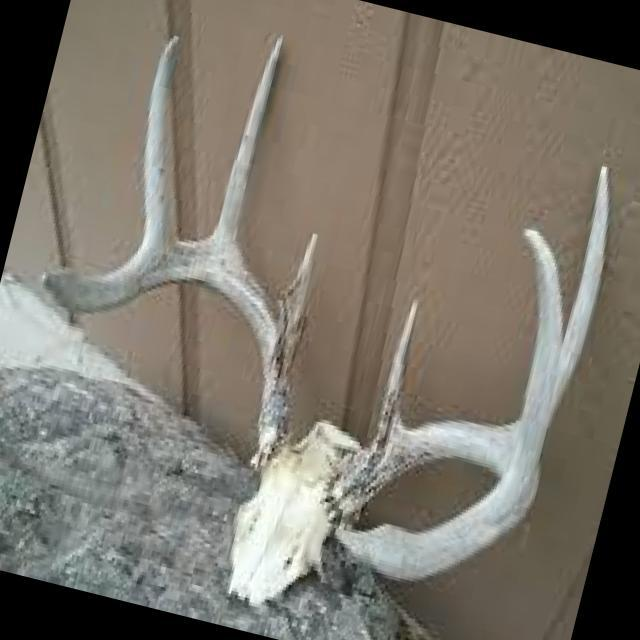L-G1: (371, 298, 420, 445)
L-G2: (547, 163, 610, 431)
L-G3: (501, 225, 562, 498)
R-F: (41, 240, 291, 472)
R-G1: (268, 229, 318, 372)
R-G2: (200, 33, 285, 261)
R-G3: (139, 34, 184, 248)
